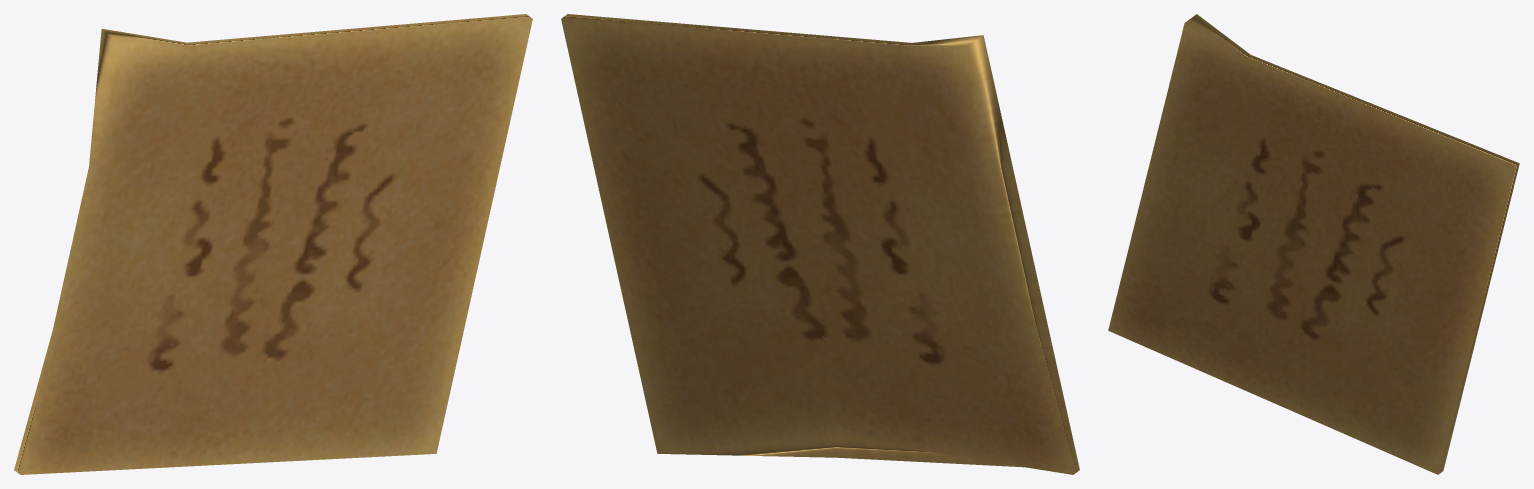
Rendered from PaperC.FBX.
3 views of the same model, side by side, from view 1: azimuth 30°, elevation 25°; view 2: azimuth 150°, elevation 25°; view 3: azimuth 330°, elevation 25° (orthographic). The views are drawn at different scales.
Parts seen in each view (by area): view 1: pCube171__Paper00_AI; view 2: pCube171__Paper00_AI; view 3: pCube171__Paper00_AI.
Boxes of the visible parts, <box> form: pCube171__Paper00_AI: <box>14,14,532,474</box>; pCube171__Paper00_AI: <box>561,14,1079,474</box>; pCube171__Paper00_AI: <box>1108,14,1519,474</box>.
Size of the model in its own units: 164 by 151 by 8.58.
